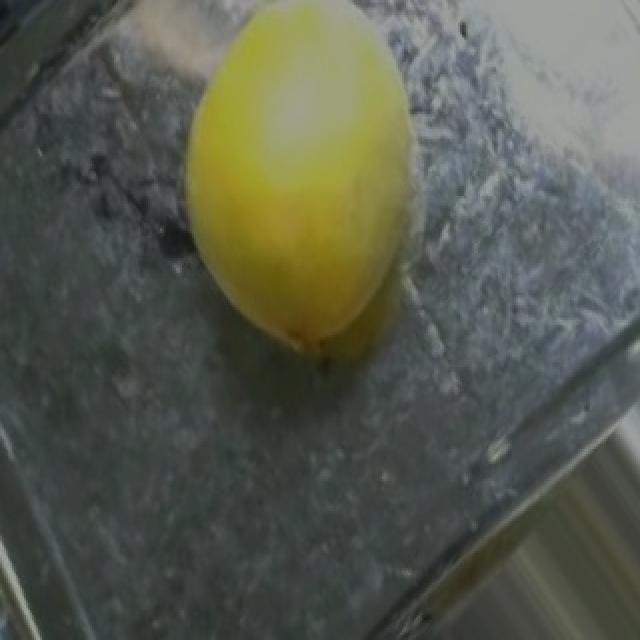fruit: (134, 0, 484, 340)
